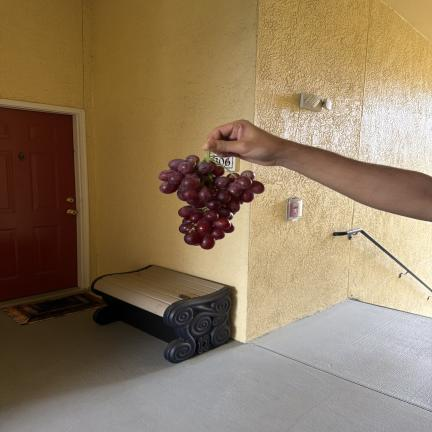grape_cluster: (158, 151, 265, 250)
